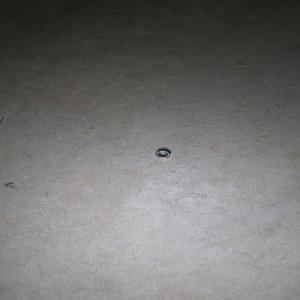Nut: (154, 149, 170, 159)
